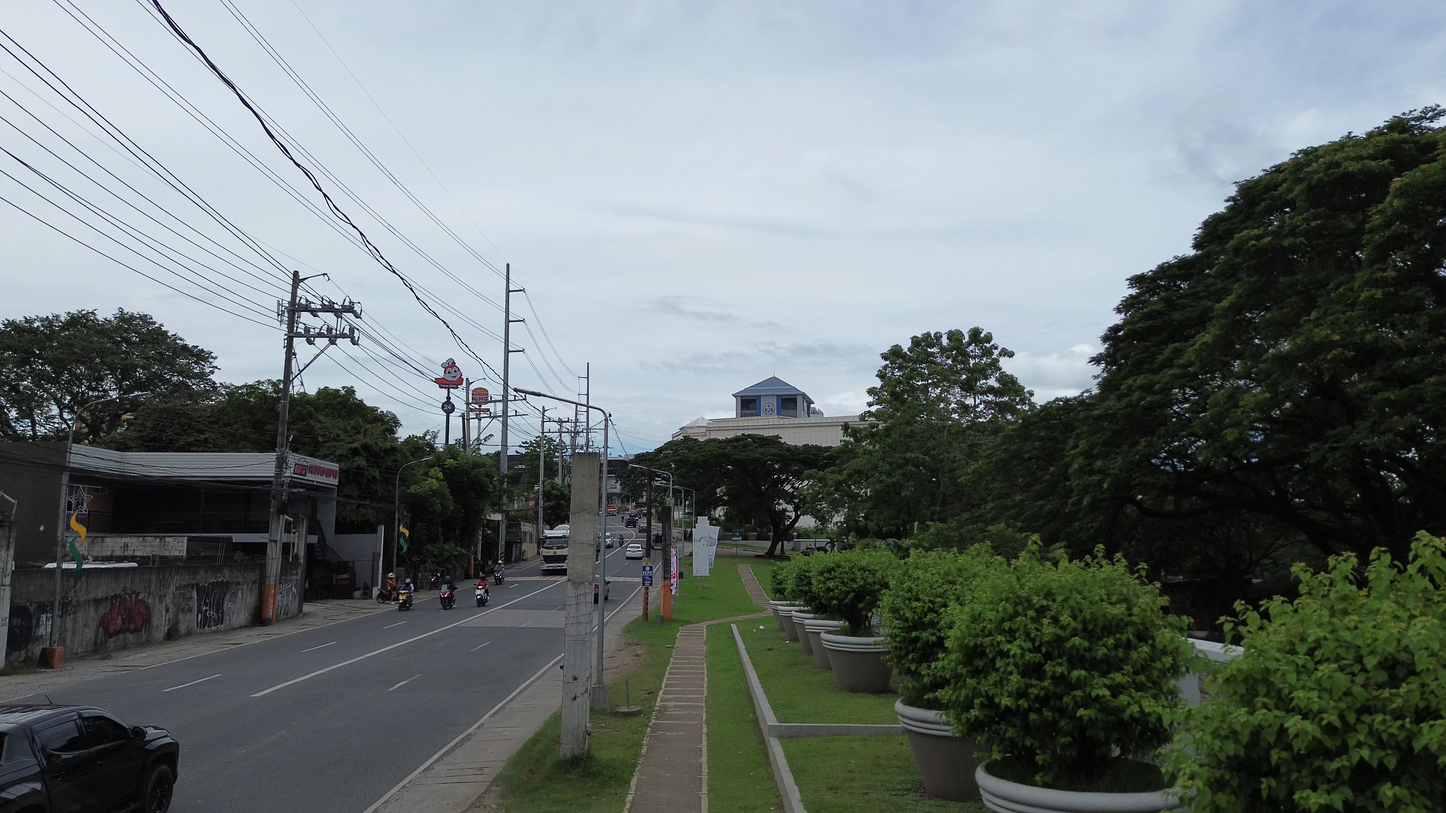motorcycle: (438, 585, 455, 610), (397, 587, 413, 610), (474, 587, 489, 607), (494, 564, 503, 584)
vehicle: (0, 705, 179, 813), (540, 526, 569, 574), (438, 584, 455, 610), (397, 586, 413, 610), (625, 542, 644, 559), (601, 580, 610, 600), (624, 516, 638, 528)
